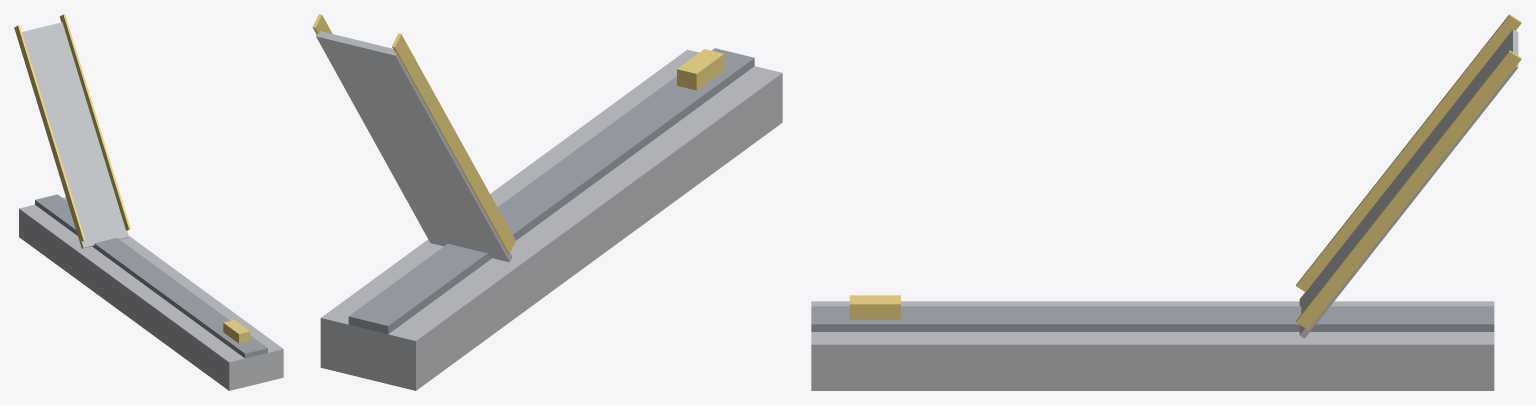
File: catwalk.glb
3 views of the same model, side by side, from view 1: azimuth 30°, elevation 25°; view 2: azimuth 150°, elevation 25°; view 3: azimuth 270°, elevation 25° (orthographic). The views are drawn at different scales.
Bounding box in the file's own units: 2.4 × 8.7 × 16.64.
